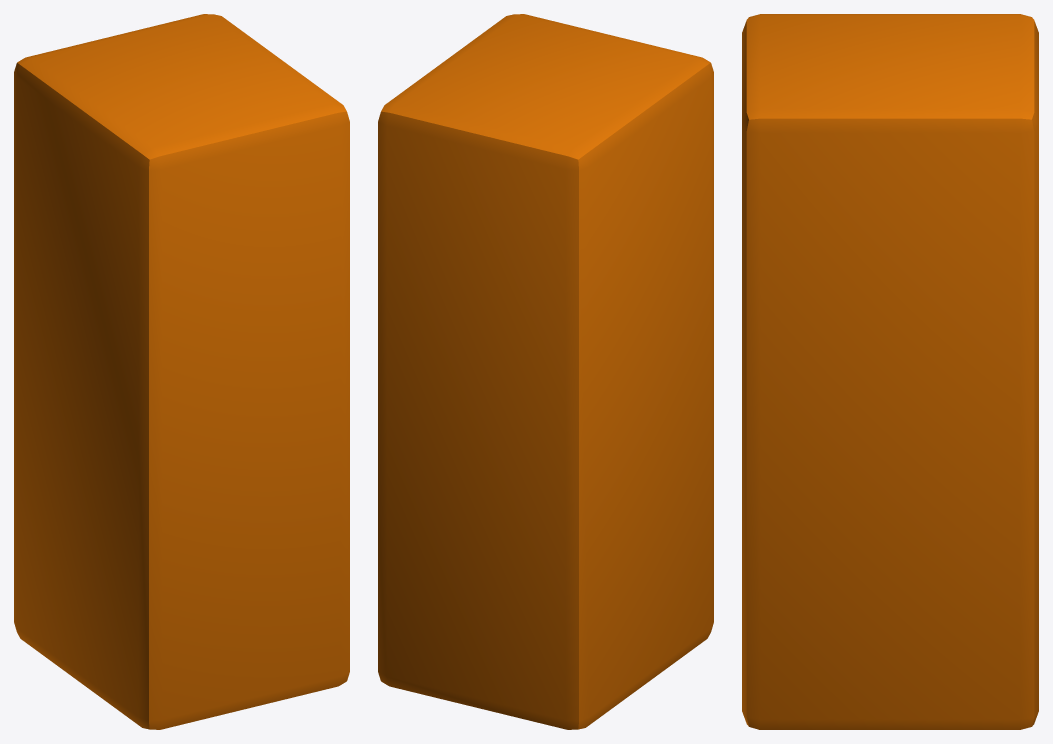
Rendered from SM_Cardboard004.fbx.
The picture shows the model from 3 angles, left to right: view 1: azimuth 30°, elevation 25°; view 2: azimuth 150°, elevation 25°; view 3: azimuth 270°, elevation 25°; orthographic projection. The views are drawn at different scales.
Parts seen in each view (by area): view 1: SM_Cardboard004; view 2: SM_Cardboard004; view 3: SM_Cardboard004.
Part boxes in pixels (x1,y1,x2,y2): SM_Cardboard004: (14, 14, 349, 729); SM_Cardboard004: (378, 14, 713, 729); SM_Cardboard004: (742, 14, 1038, 729).
Size of the model in its own units: 81.57 by 216 by 94.24.
